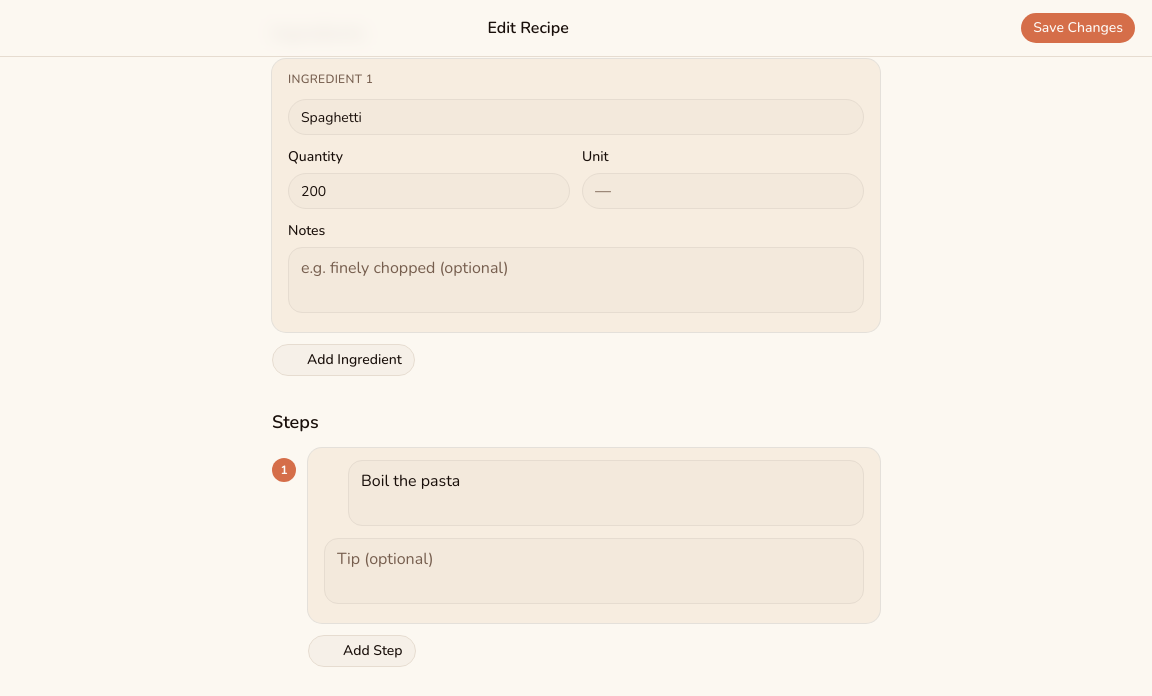
EditRecipeForm › ingredients › adds a new ingredient row when 'Add Ingredient' is clicked
(page scrolled)
Expected: the text "Ingredient 1" is shown, top-left (288, 71), bottom-right (373, 87)
Expected: the text "Ingredient 2" is not shown
Click the button "Add Ingredient" at (343, 360), box top-left (272, 344), bottom-right (415, 376)
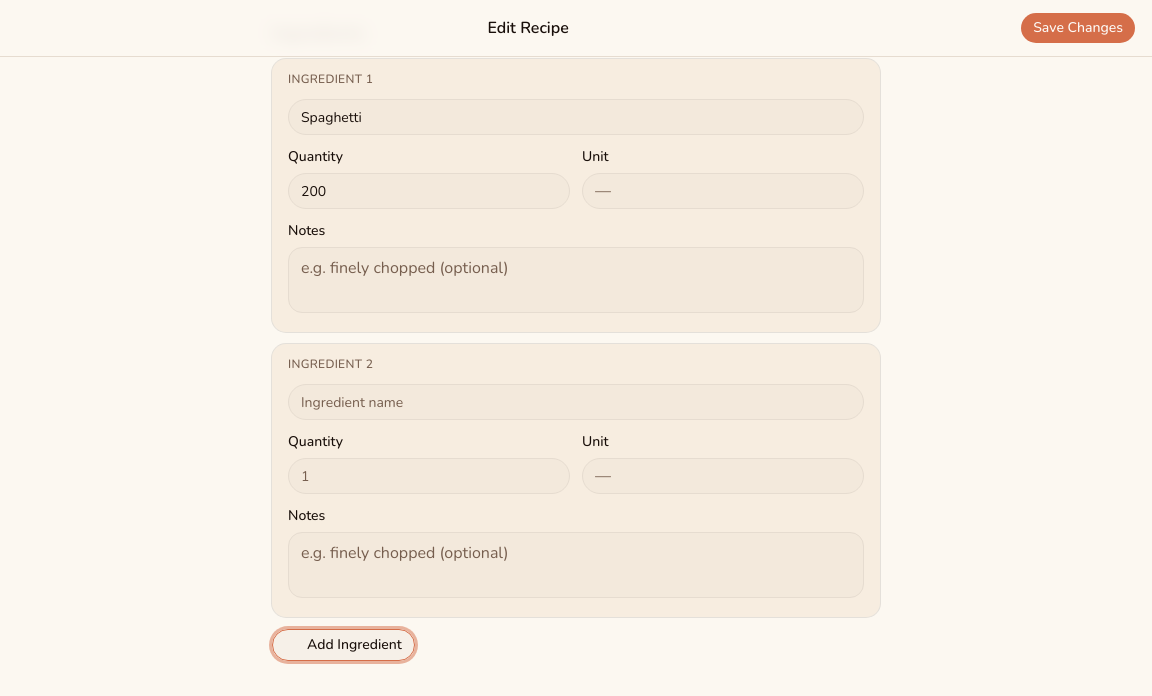
Now the text "Ingredient 2" is shown, box top-left (288, 356), bottom-right (373, 372)
